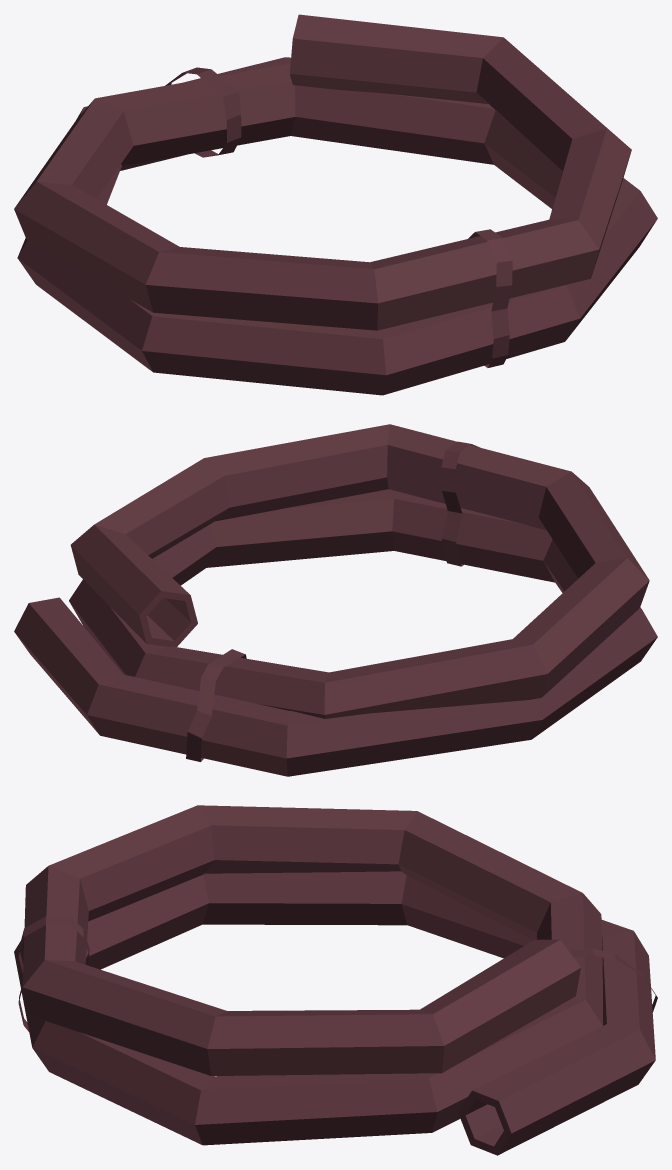
Rendered from construction-pipe-roll.glb.
3 renders of one model, top to bottom at view 1: azimuth 30°, elevation 25°; view 2: azimuth 150°, elevation 25°; view 3: azimuth 270°, elevation 25°, orthographic. The views are drawn at different scales.
Parts seen in each view (by area): view 1: pipe-roll; view 2: pipe-roll; view 3: pipe-roll.
Part boxes in pixels (bbox=[...]): pipe-roll: bbox=[14, 14, 657, 395]; pipe-roll: bbox=[14, 424, 657, 776]; pipe-roll: bbox=[14, 805, 657, 1155].
Size of the model in its own units: 0.6913 by 0.1668 by 0.733.
